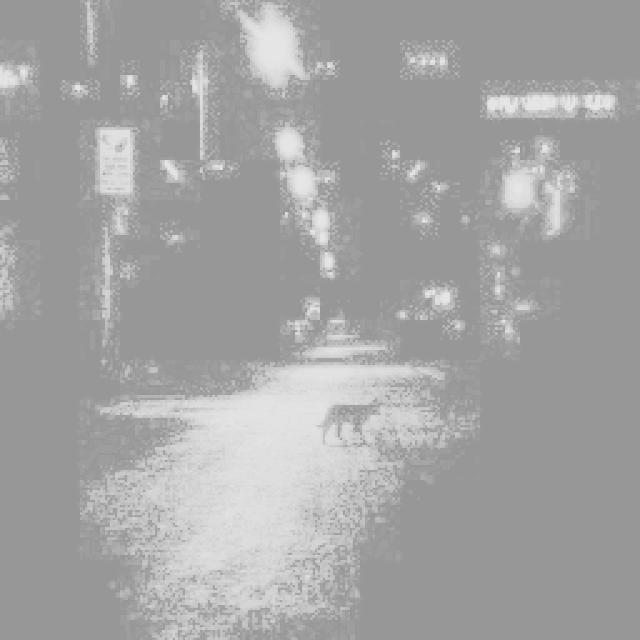cat: (293, 369, 406, 461)
